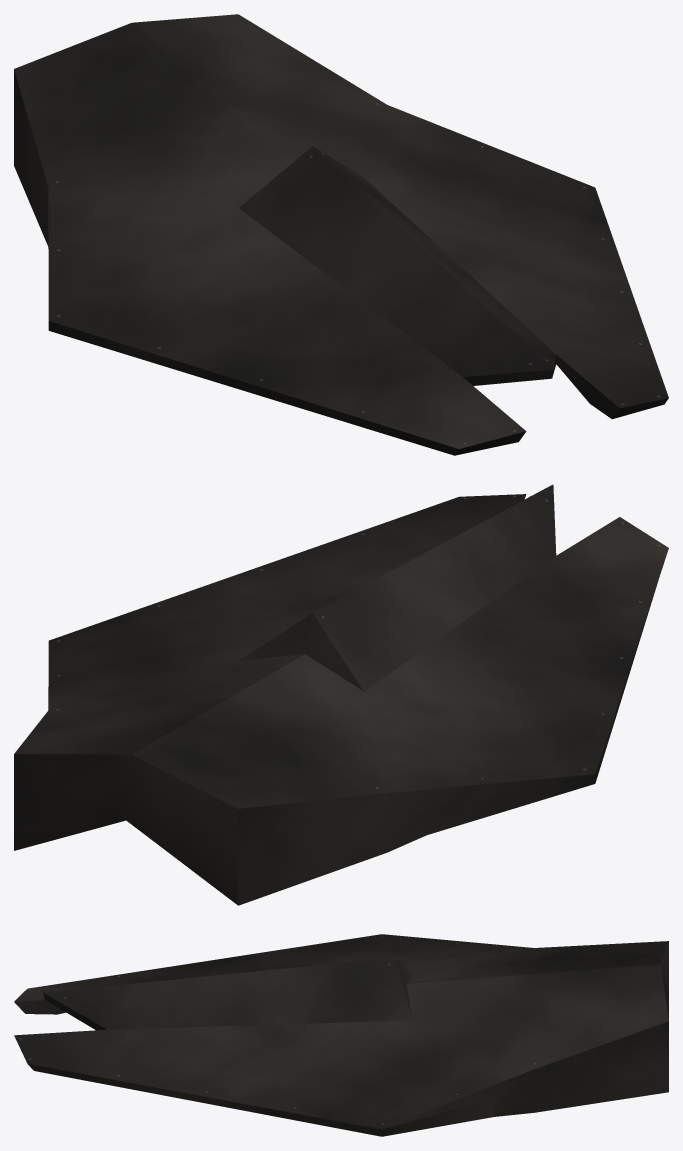
Rendered from e_forward_hull_d_model.fbx.
3 views of the same model, one above another, from view 1: azimuth 30°, elevation 25°; view 2: azimuth 150°, elevation 25°; view 3: azimuth 270°, elevation 25° (orthographic). The views are drawn at different scales.
Visible parts, largest first — view 1: polySurface23; view 2: polySurface23; view 3: polySurface23.
Part boxes in pixels (x1,y1,x2,y2): polySurface23: (14, 14, 668, 455); polySurface23: (14, 484, 668, 905); polySurface23: (14, 934, 668, 1136).
Size of the model in its own units: 8270 by 1865 by 11714.
2 materials, 1 textured.
